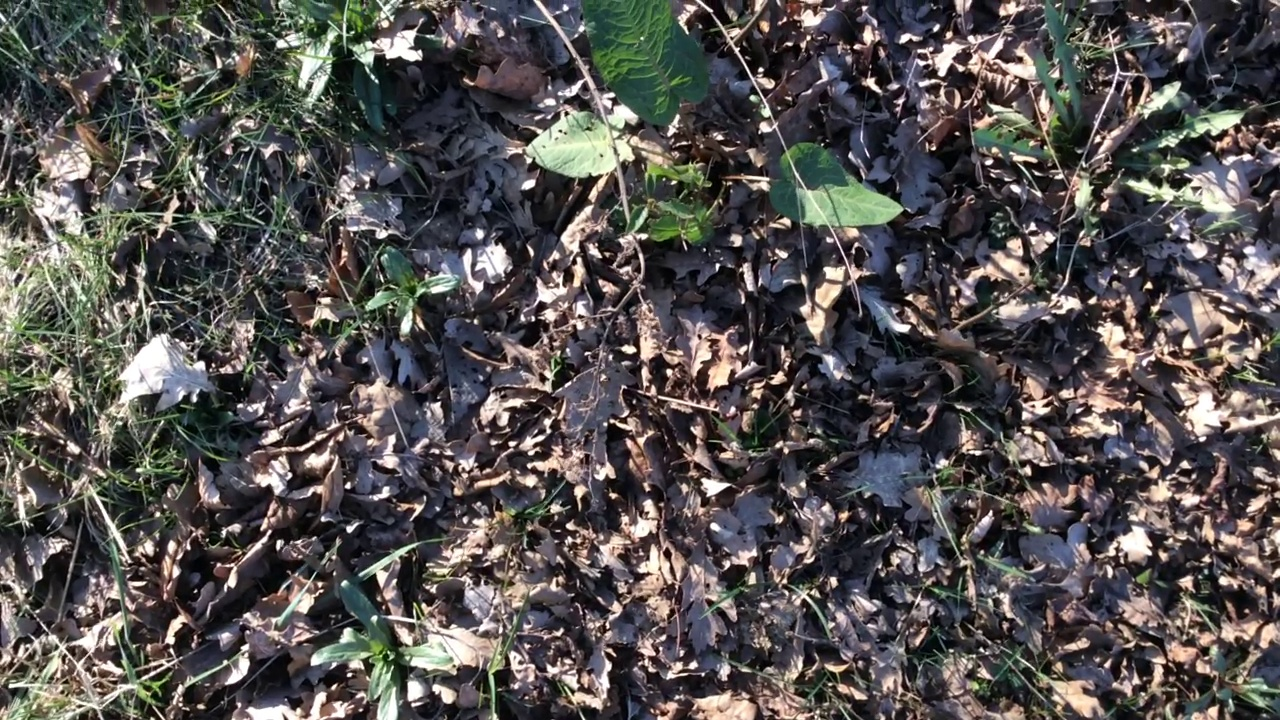rumex: (527, 1, 906, 243)
